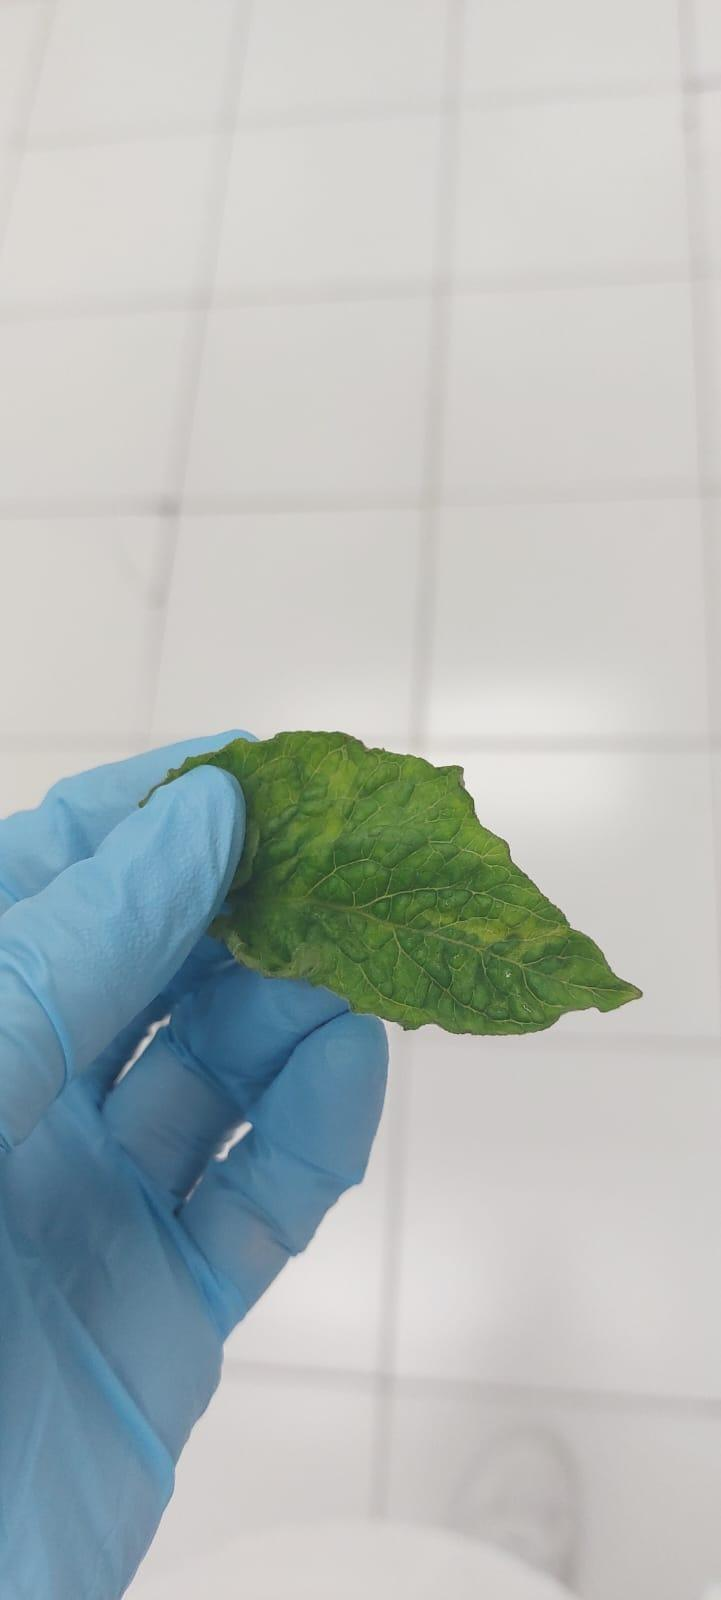Hoja rugoso: (143, 731, 641, 1035)
